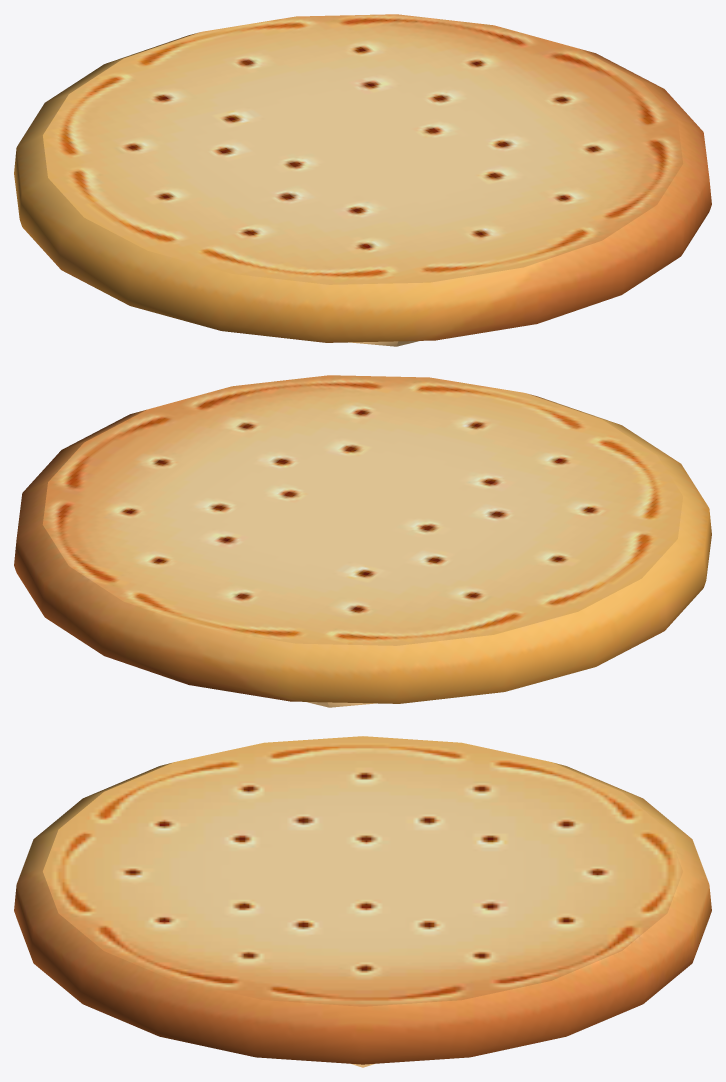
Rendered from shield0064.fbx.
3 views of the same model, one above another, from view 1: azimuth 30°, elevation 25°; view 2: azimuth 150°, elevation 25°; view 3: azimuth 270°, elevation 25° (orthographic).
Parts seen in each view (by area): view 1: shield0064; view 2: shield0064; view 3: shield0064.
Boxes of the visible parts, x1,y1,x2,y2 form: shield0064: [14, 14, 711, 346]; shield0064: [14, 375, 711, 707]; shield0064: [14, 736, 711, 1067].
Bounding box in the file's own units: 0.3592 × 0.1069 × 0.3592.
